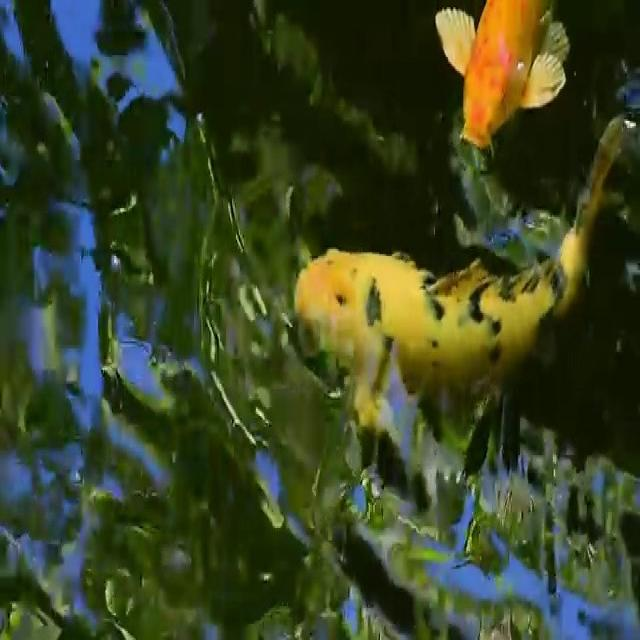fish: (280, 113, 640, 452), (412, 2, 576, 172)
